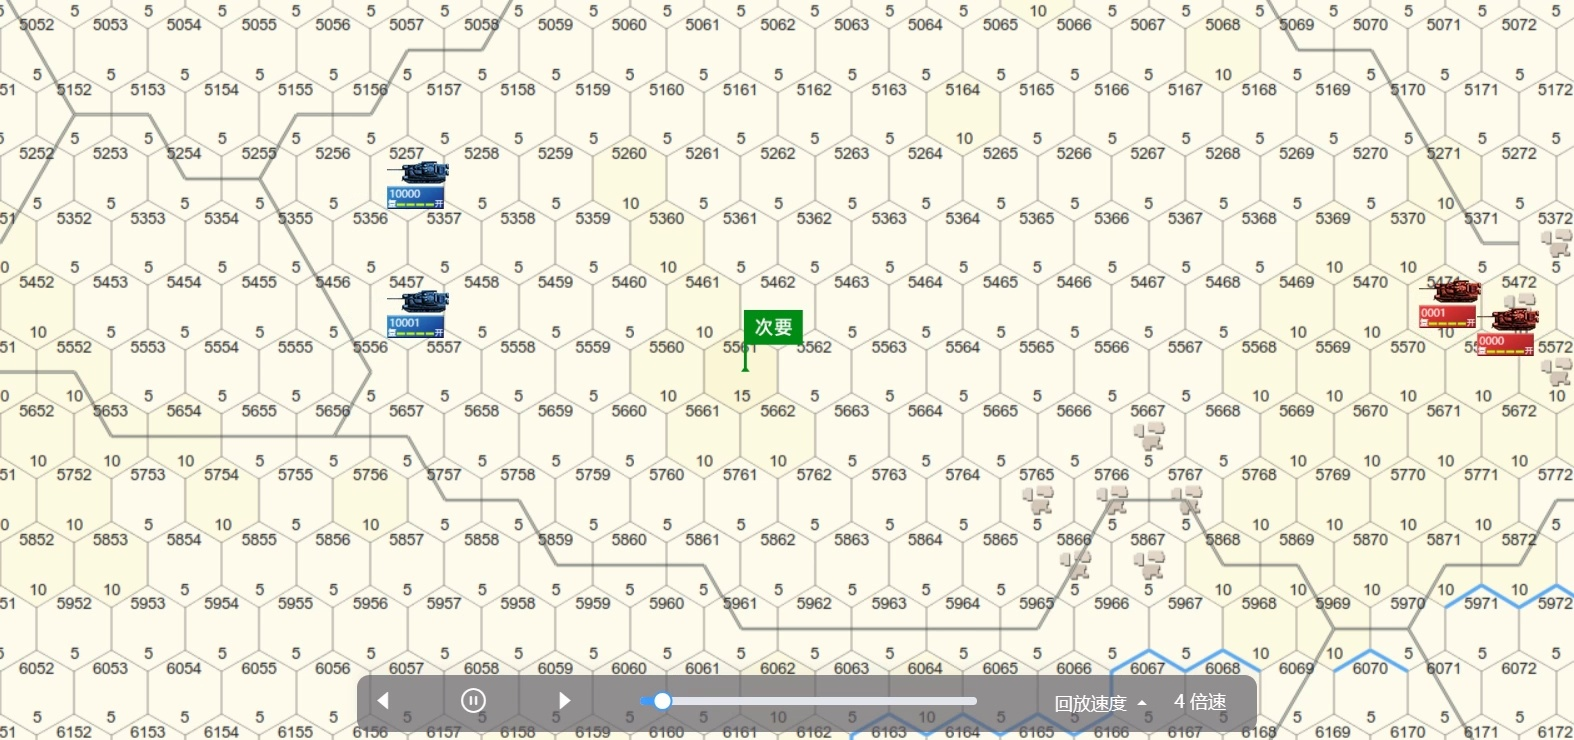blue_tank: (392, 159, 451, 218), (393, 295, 448, 341)
red_tank: (1484, 313, 1544, 361), (1421, 279, 1476, 330)
